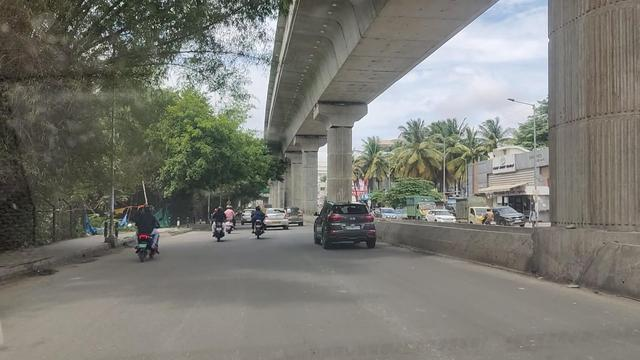LMV: (313, 197, 381, 253), (131, 196, 161, 271), (251, 202, 271, 243), (212, 205, 228, 245)
